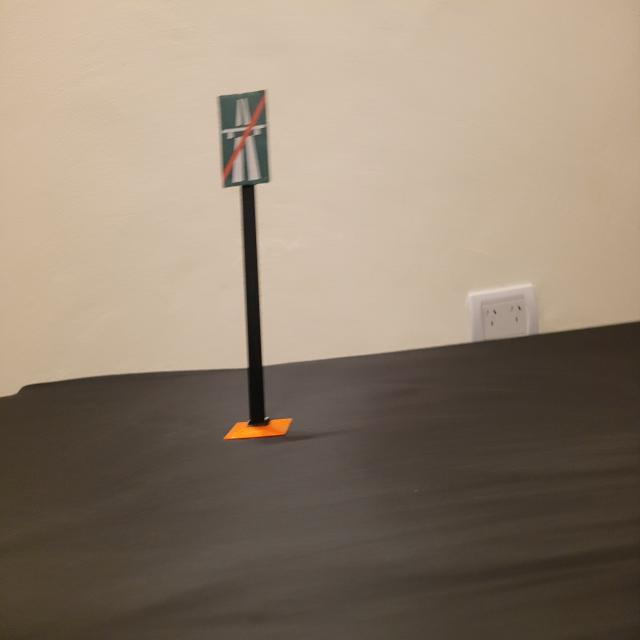highway_exit: (217, 89, 268, 191)
